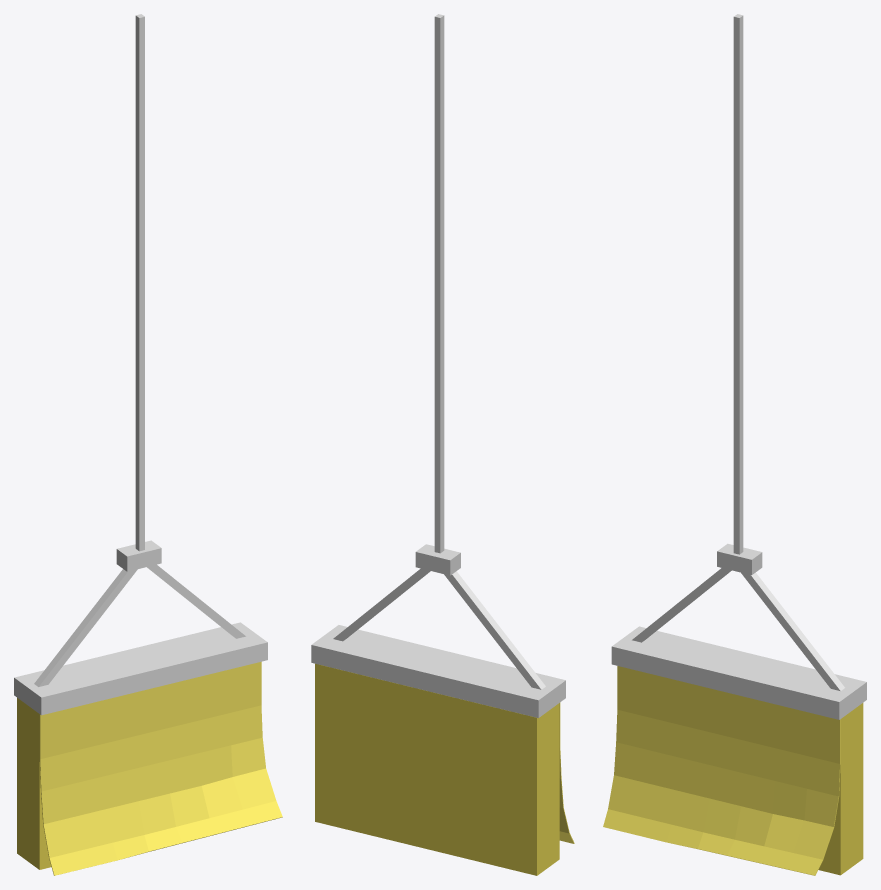
Rendered from CardNote.fbx.
3 views of the same model, side by side, from view 1: azimuth 30°, elevation 25°; view 2: azimuth 150°, elevation 25°; view 3: azimuth 330°, elevation 25° (orthographic).
Parts seen in each view (by area): view 1: Cube.003, Cube.001, Cube.006, Cube, Cube.002, Cube.004, Cube.005; view 2: Cube, Cube.001, Cube.006, Cube.002, Cube.005, Cube.004, Cube.003; view 3: Cube.003, Cube.001, Cube.006, Cube, Cube.004, Cube.002, Cube.005.
Boxes of the visible parts, left/top/right/bottom form: Cube.003: left=39, top=661, right=282, bottom=875; Cube.001: left=14, top=622, right=267, bottom=715; Cube.006: left=135, top=14, right=144, bottom=551; Cube: left=17, top=698, right=51, bottom=869; Cube.002: left=34, top=569, right=137, bottom=686; Cube.004: left=147, top=564, right=245, bottom=638; Cube.005: left=116, top=540, right=161, bottom=571; Cube: left=315, top=663, right=559, bottom=875; Cube.001: left=311, top=625, right=565, bottom=717; Cube.006: left=434, top=14, right=444, bottom=553; Cube.002: left=444, top=571, right=545, bottom=689; Cube.005: left=415, top=544, right=460, bottom=575; Cube.004: left=333, top=568, right=430, bottom=641; Cube.003: left=559, top=702, right=574, bottom=843; Cube.003: left=603, top=666, right=840, bottom=875; Cube.001: left=611, top=626, right=866, bottom=719; Cube.006: left=733, top=14, right=743, bottom=554; Cube: left=818, top=703, right=863, bottom=875; Cube.004: left=741, top=572, right=844, bottom=691; Cube.002: left=632, top=568, right=731, bottom=642; Cube.005: left=717, top=543, right=762, bottom=575.
Bounding box in the file's own units: 301 × 1042 × 108.
